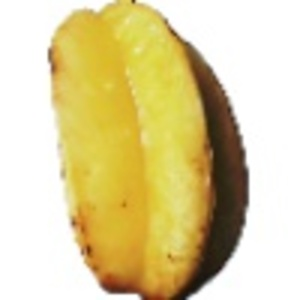carambola: (47, 1, 249, 300)
